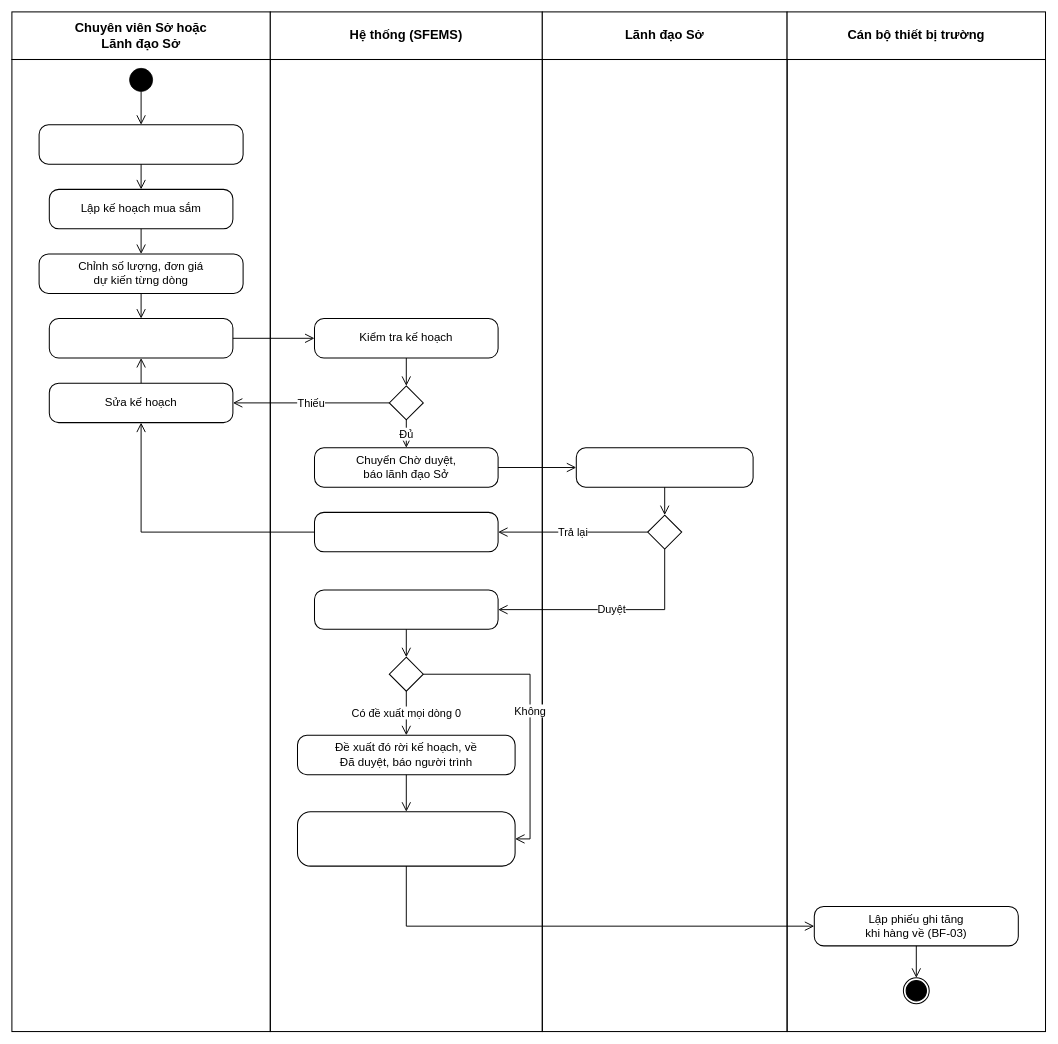
This 1058x1044 diagram has some shape labels left out. Each missing label, with the centre of its shape:
"Chuyển kế hoạch Đã duyệt" goes at pixel 406 609.
"Chuyển Nháp, báo người lập" goes at pixel 406 532.
"Chọn đề xuất đã duyệt cùng năm ngân sách" goes at pixel 140 144.
"Trình duyệt" goes at pixel 140 338.
"Xem xét kế hoạch" goes at pixel 664 467.
"Đề xuất còn lại chuyển Hoàn tất, báo người trình đề xuất và người lập kế hoạch" goes at pixel 406 838.
